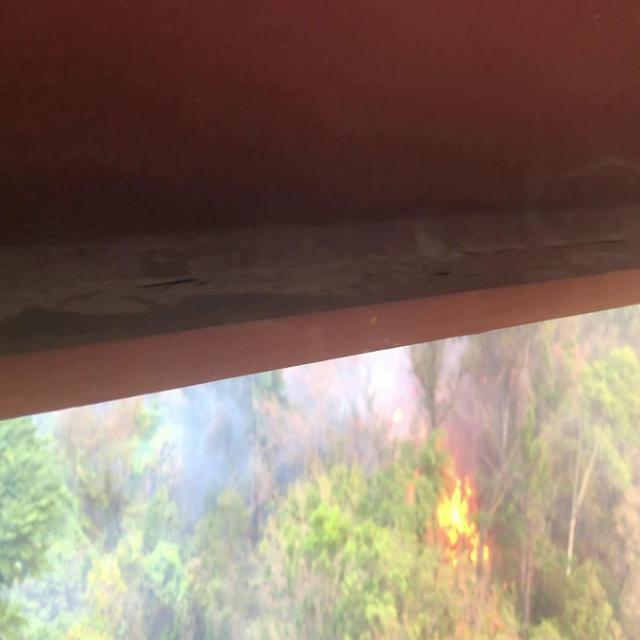Fire: (438, 446, 491, 564)
